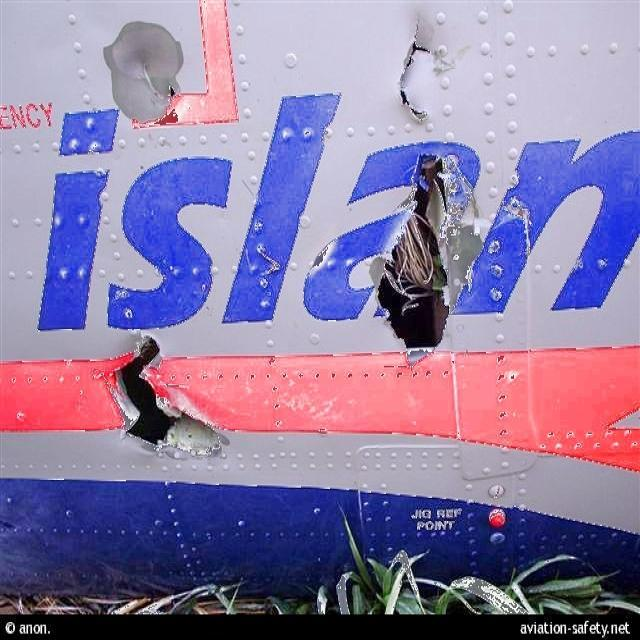crack: (369, 152, 489, 368), (94, 324, 233, 459), (397, 12, 453, 120), (134, 52, 190, 105)
